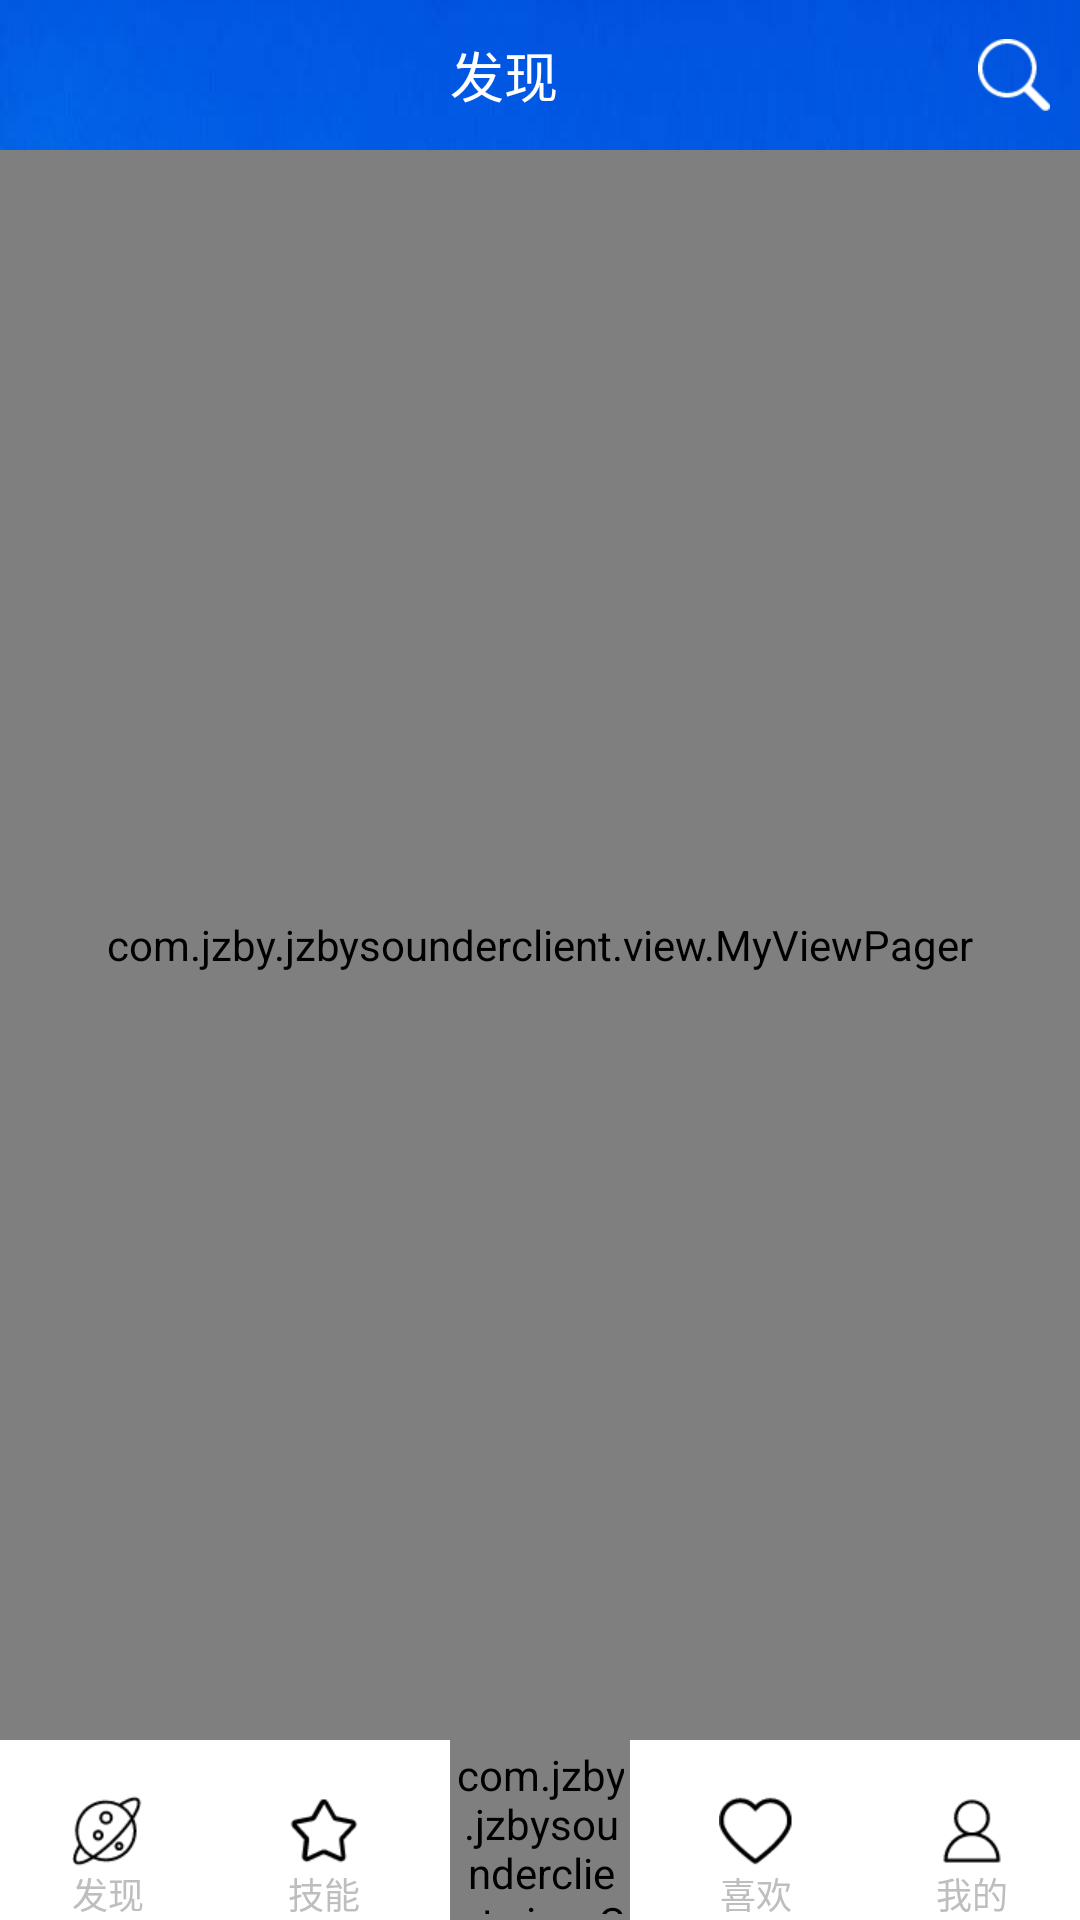

Icon click points for this 1080px×1920px phone screenshot, format point (x, y):
search: point (1014, 75)
